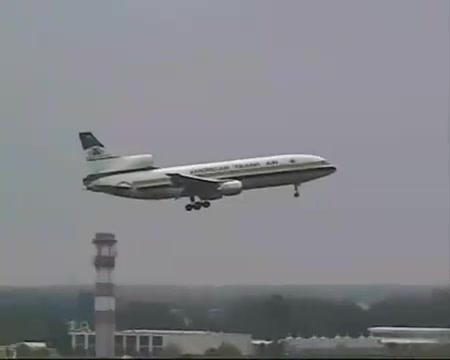aeroplane: (75, 128, 339, 216)
